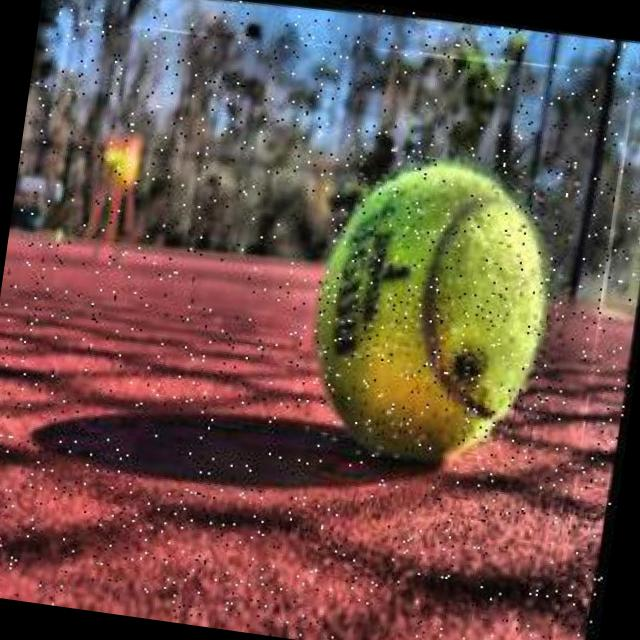Tennis Ball: (291, 125, 590, 484)
